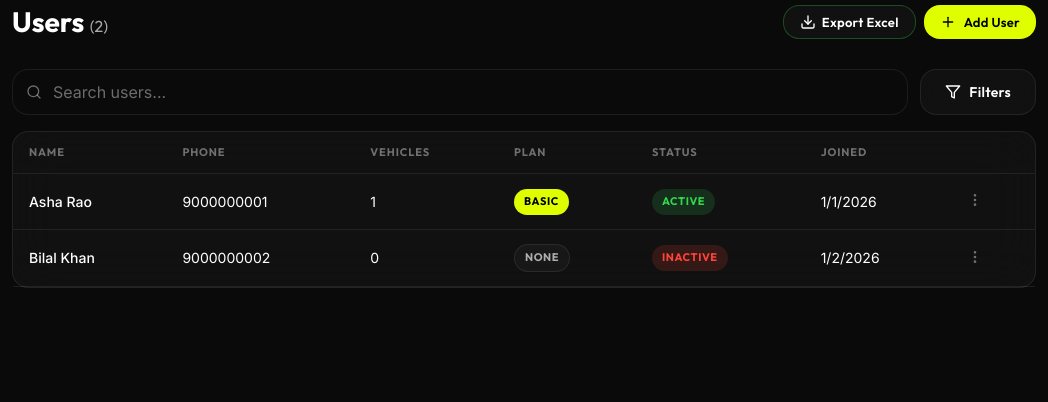
Admin Users — filter count badge (bug 28) › shows a count badge on the Filters button after a filter is selected
This screenshot has width=1048, height=402.
Expected: the text "Asha Rao" is shown, [13,174,166,230]
Open the filter panel and select the "active" status
Click the button "Filters" at (978, 92), box [920,69,1036,115]
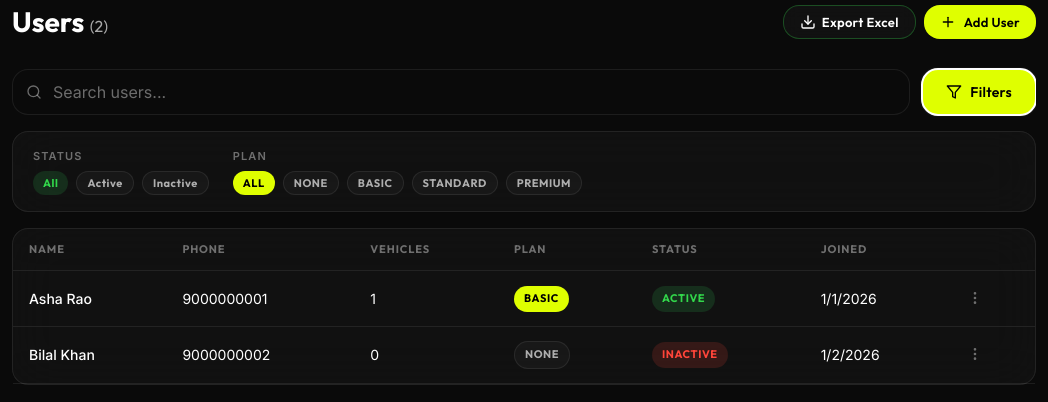
Click the button "active" at (105, 183), box [76,171,134,195]
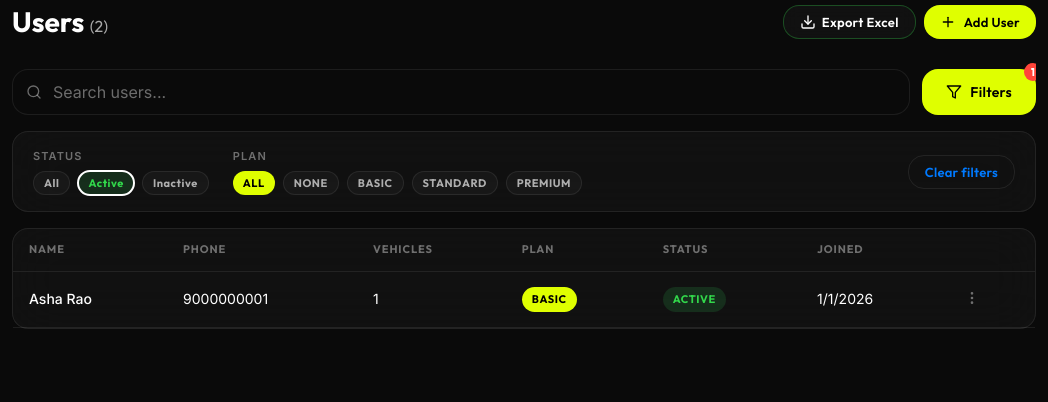
Result: the button "Filters 1" is shown at [922,69,1036,115]
